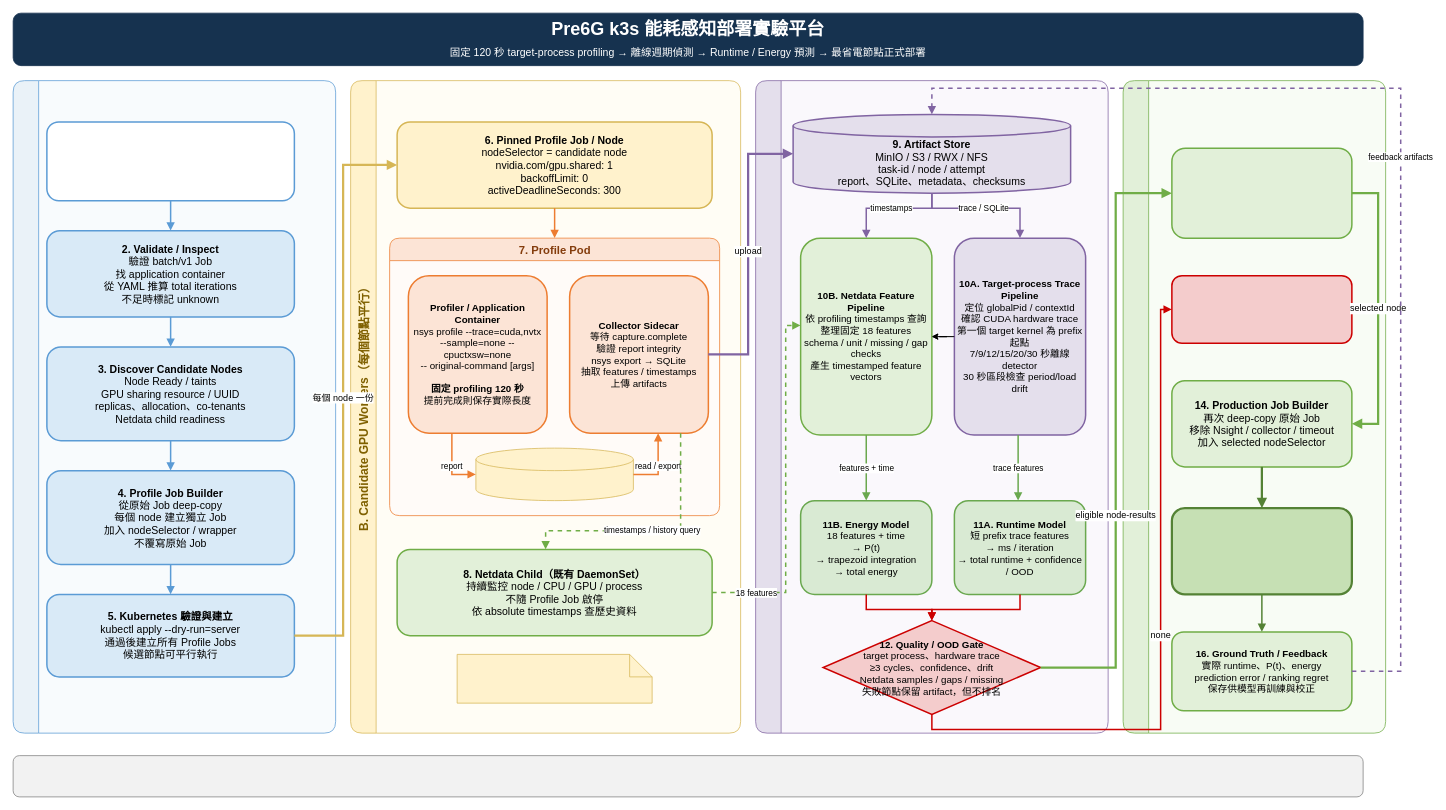
The diagram is 1446 pixels wide and 810 high, and some of its shapes have lost their labels. The box of each missing label's shape, as (x1, y1, x2, y2) in pixels:
1. 使用者提交 Job YAML image / command / args CPU、Memory、shared GPU dataset / volumes: (46, 121, 295, 201)
13. 跨節點排名 預測 total runtime / energy 加入 uncertainty penalty 選出最低能耗 eligible node: (1171, 147, 1352, 238)
15. 正式部署與執行 相同 shared-GPU contract 不啟用 Nsight 在選定節點執行完整 Job: (1170, 507, 1353, 595)
A. k3s Control Plane: (12, 80, 336, 733)
C. Artifacts、Feature 與 Models: (755, 80, 1108, 733)
D. Decision 與 Production: (1122, 80, 1386, 733)
Shared artifact volume .nsys-rep / SQLite / logs completion marker: (475, 447, 633, 501)
worker-4090 / worker-5090 / ... 每個候選節點重複步驟 6～8: (456, 654, 652, 703)
圖例 藍：控制平面 黃／橘：候選節點 Dry-run 紫：artifact／trace 綠：模型與正式部署 紅：品質失敗路徑 虛線：監控／回饋資料: (12, 755, 1363, 797)
證據不足 / 全部失敗 profile-only 或停止 不偽造最佳節點: (1171, 274, 1352, 344)
